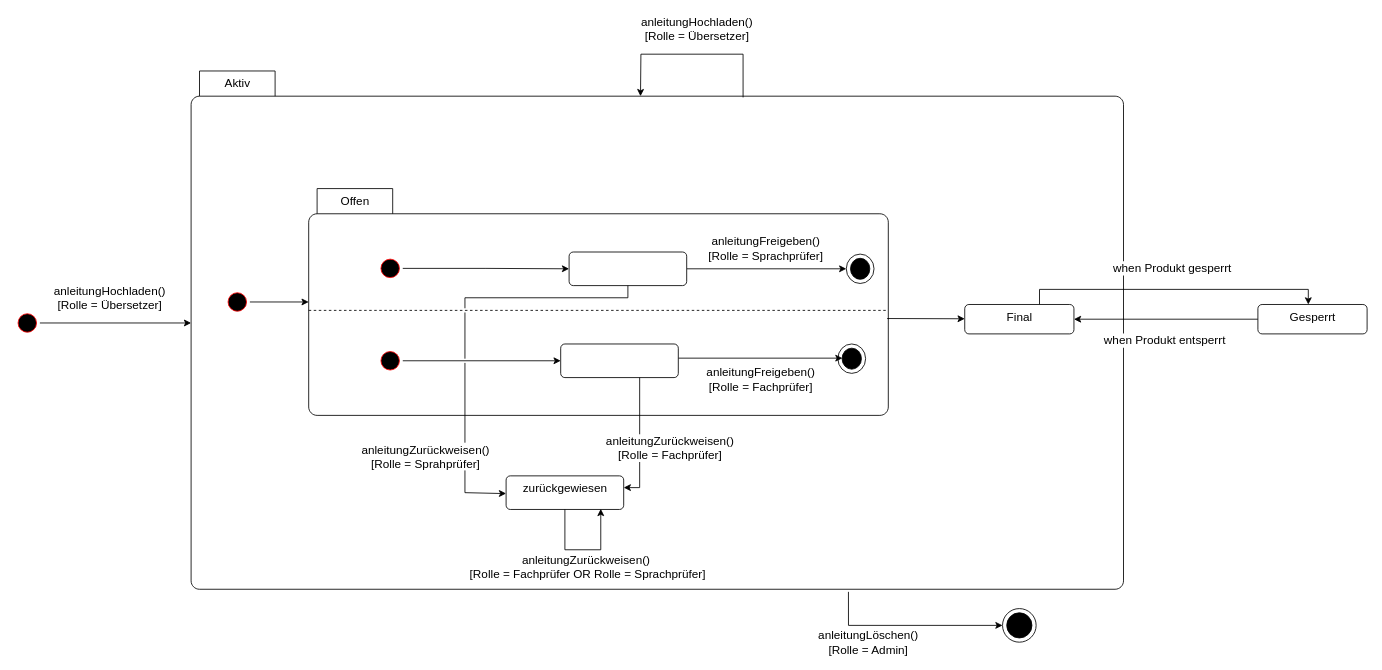
The diagram is 1382 pixels wide and 670 high, and some of its shapes have lost their labels. Here are the shapes that lost their labels. From the top down, the centre of each, then its label:
At (x=627, y=268): "Sprachlich offen".
At (x=619, y=360): "Fachlich offen".
